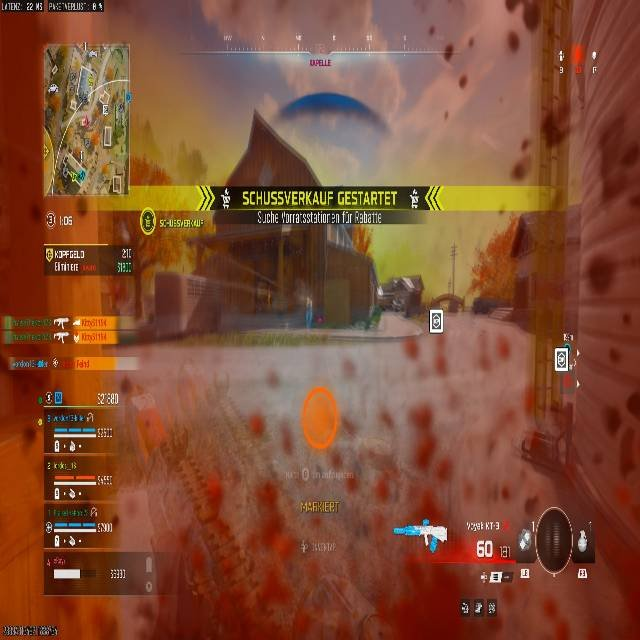player: (253, 278, 272, 314)
